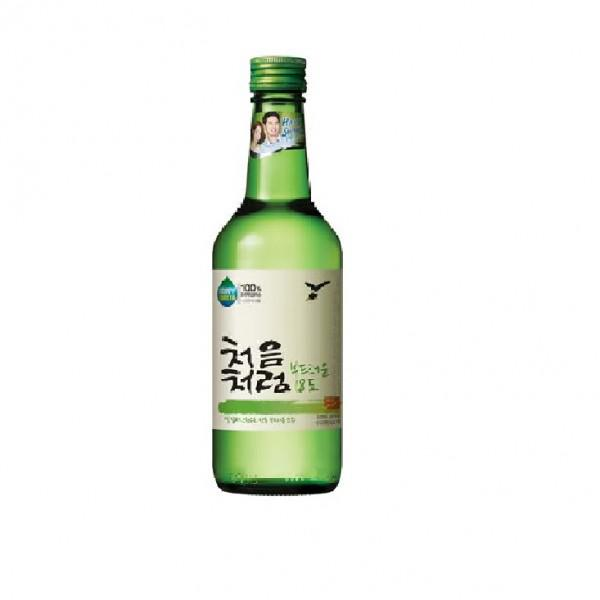soju: (206, 53, 348, 497)
